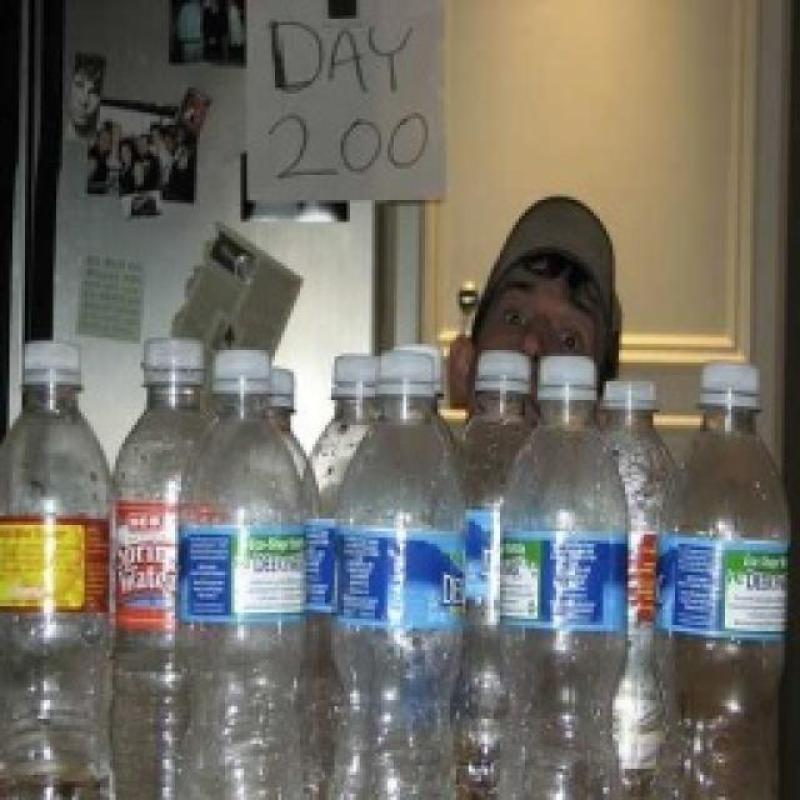botella: (178, 346, 308, 800), (658, 362, 792, 800), (504, 354, 634, 798), (0, 340, 115, 799), (341, 352, 457, 800), (115, 337, 209, 800), (459, 350, 531, 800), (597, 377, 672, 800), (313, 356, 375, 800), (268, 370, 312, 474)
